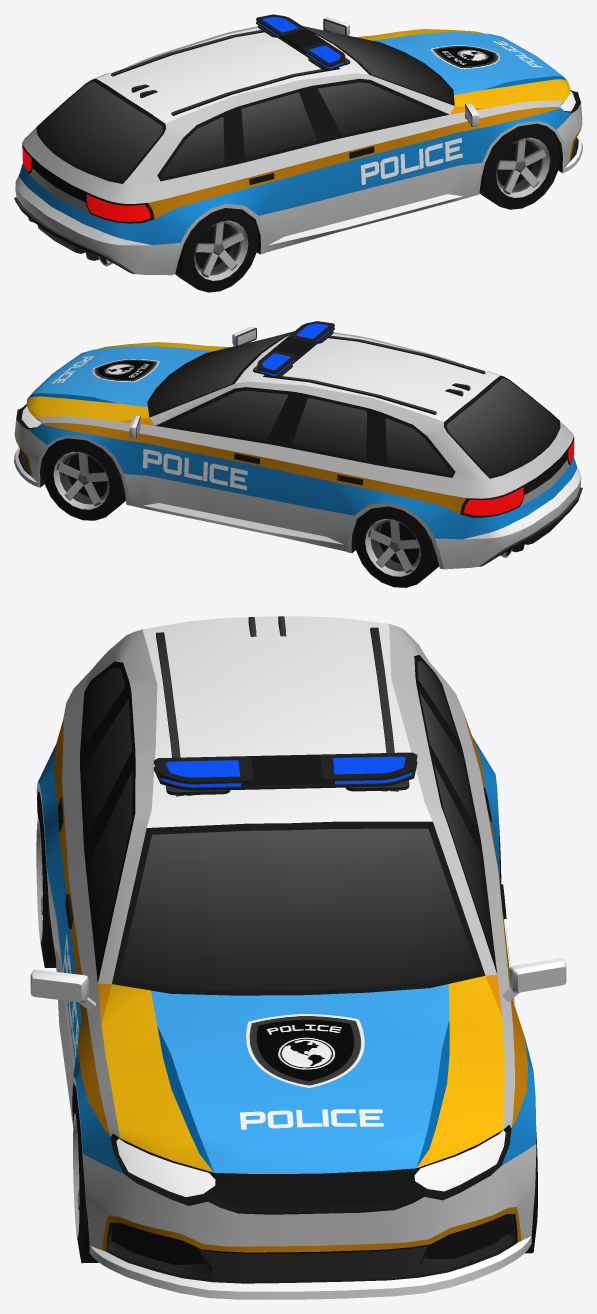
File: Emergency_014.glb
3 renders of one model, top to bottom at view 1: azimuth 30°, elevation 25°; view 2: azimuth 150°, elevation 25°; view 3: azimuth 270°, elevation 25°, orthographic. The views are drawn at different scales.
Visible parts, largest first — view 1: Emergency_014, wheel_0_Emergency_014_Wheel_1R, wheel_3_Emergency_014_Wheel_3R; view 2: Emergency_014, wheel_1_Emergency_014_Wheel_2L, wheel_2_Emergency_014_Wheel_3L; view 3: Emergency_014, wheel_3_Emergency_014_Wheel_3R, wheel_0_Emergency_014_Wheel_1R.
Boxes of the visible parts, x1=… form: Emergency_014: x1=14, y1=14, x2=582, y2=275; wheel_0_Emergency_014_Wheel_1R: x1=479, y1=123, x2=560, y2=209; wheel_3_Emergency_014_Wheel_3R: x1=175, y1=208, x2=258, y2=292; Emergency_014: x1=14, y1=321, x2=582, y2=569; wheel_1_Emergency_014_Wheel_2L: x1=43, y1=438, x2=125, y2=520; wheel_2_Emergency_014_Wheel_3L: x1=354, y1=506, x2=438, y2=587; Emergency_014: x1=30, y1=616, x2=566, y2=1299; wheel_3_Emergency_014_Wheel_3R: x1=36, y1=797, x2=56, y2=967; wheel_0_Emergency_014_Wheel_1R: x1=73, y1=1094, x2=98, y2=1263.
Bounding box in the file's own units: 4.99 × 1.55 × 2.26.
Materials: 3 (3 with a texture image).
